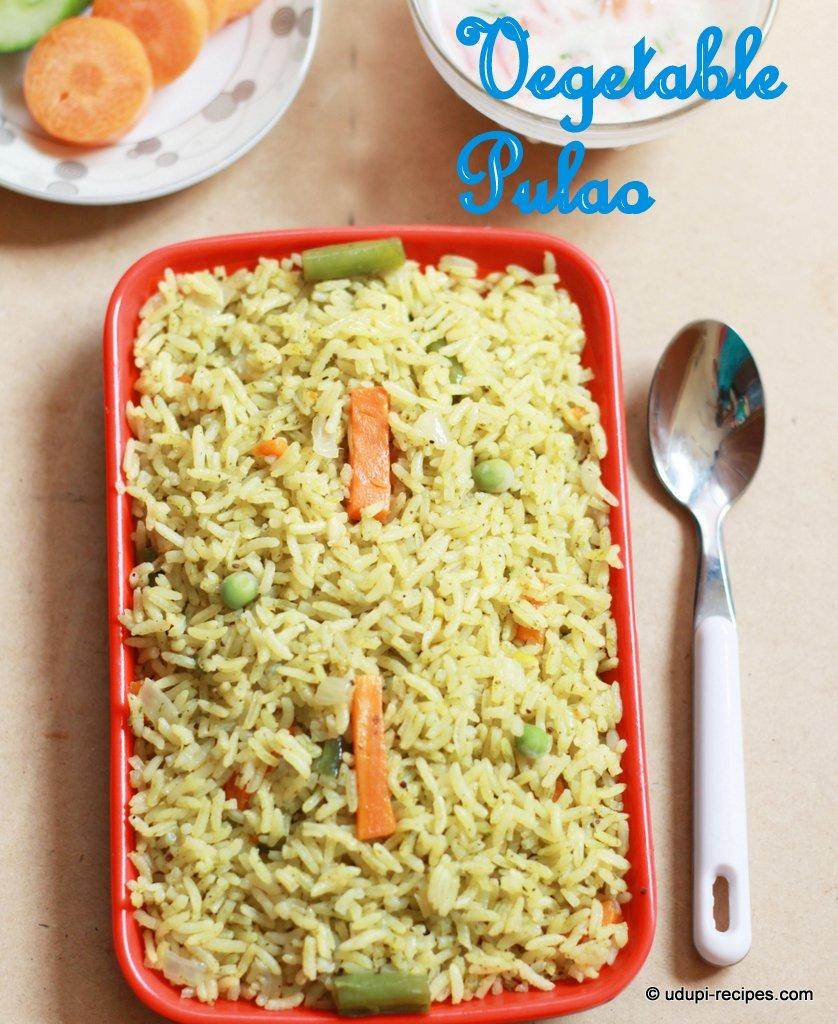veg-pulao: (158, 258, 620, 994)
